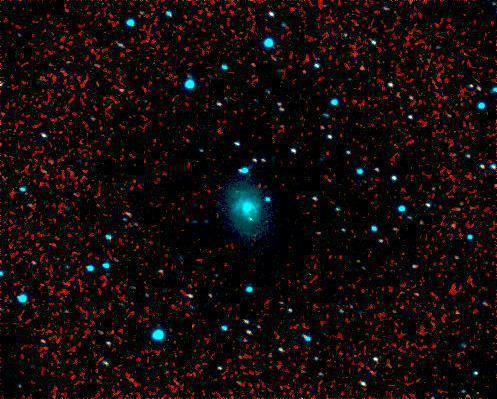star: (235, 204, 265, 234)
